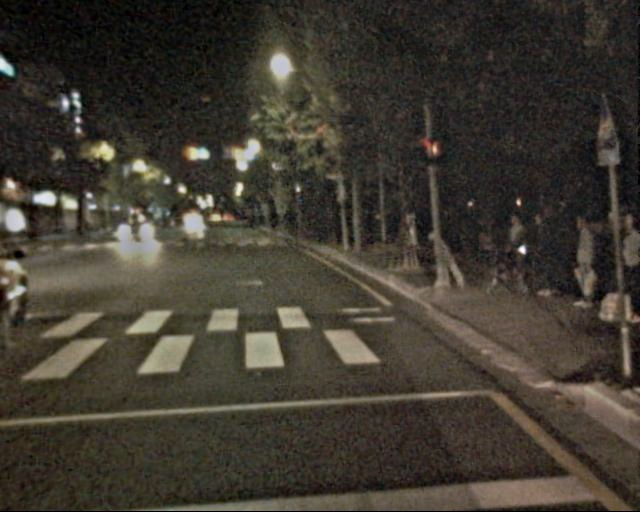person: (496, 215, 560, 301), (566, 216, 604, 309), (609, 214, 640, 325)
